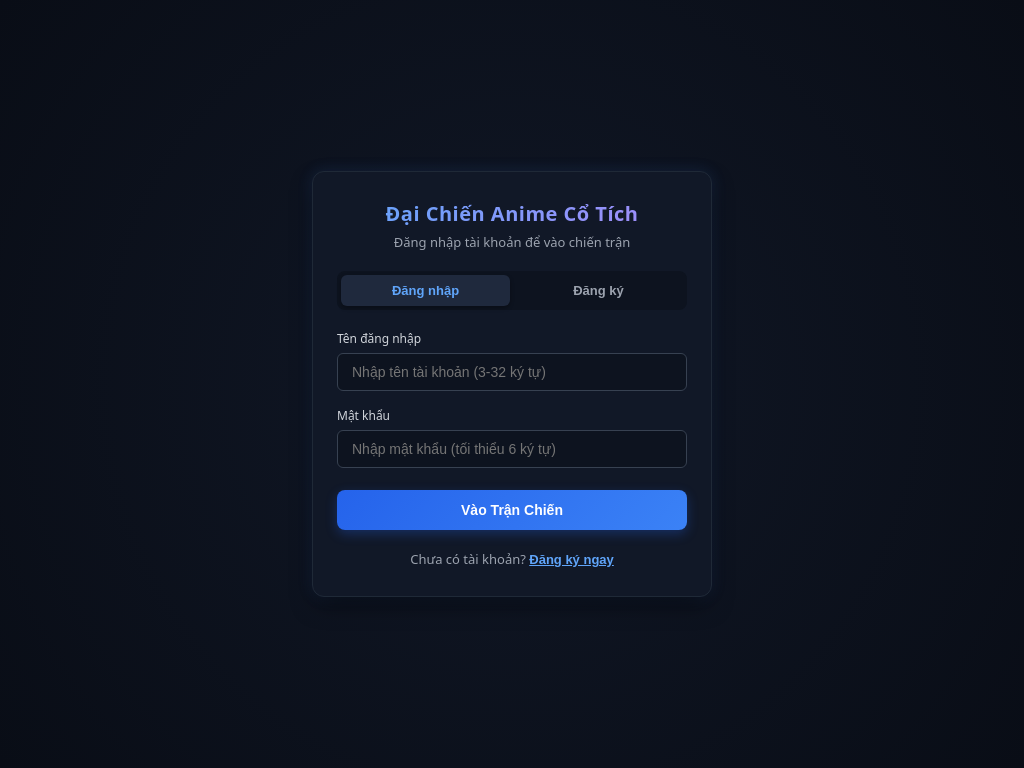
Scenario: App runtime lifecycle and Web Account authentication orchestration › interactive login and registration flow › shows error banner when credentials are rejected and never connects SignalR
Step 1. Type "wronguser" into the field with test id "input-username" → (512, 372), box [337,353,687,391]
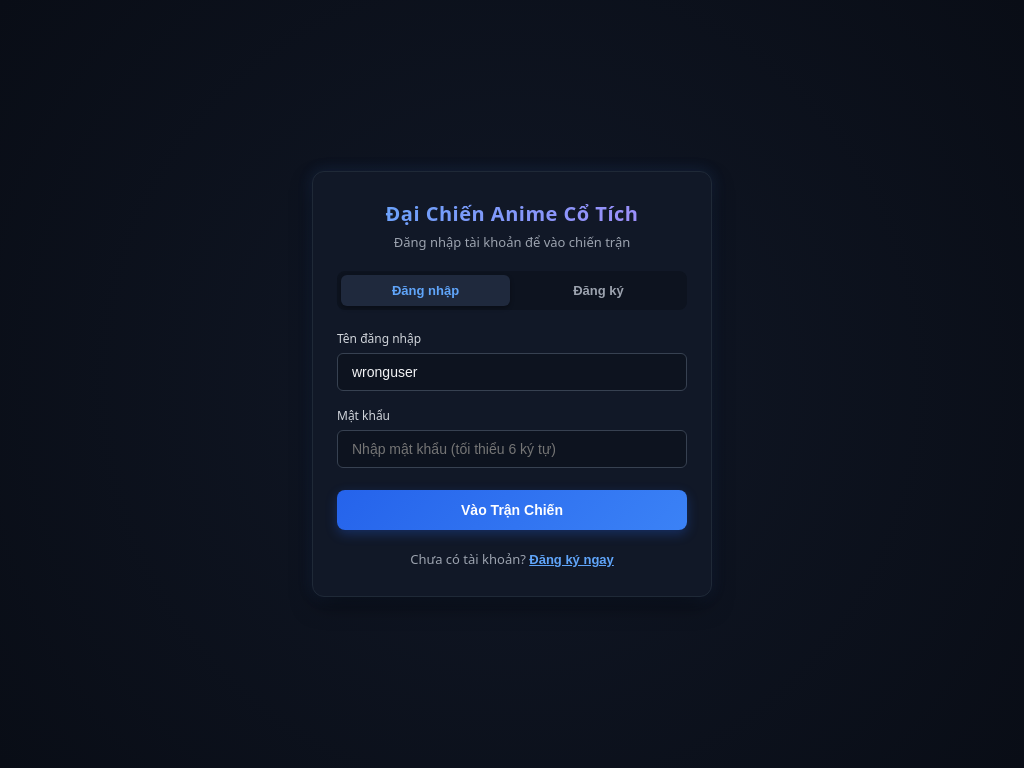
Step 2. Type "wrongpass" into the password field with test id "input-password" → (512, 449), box [337,430,687,468]
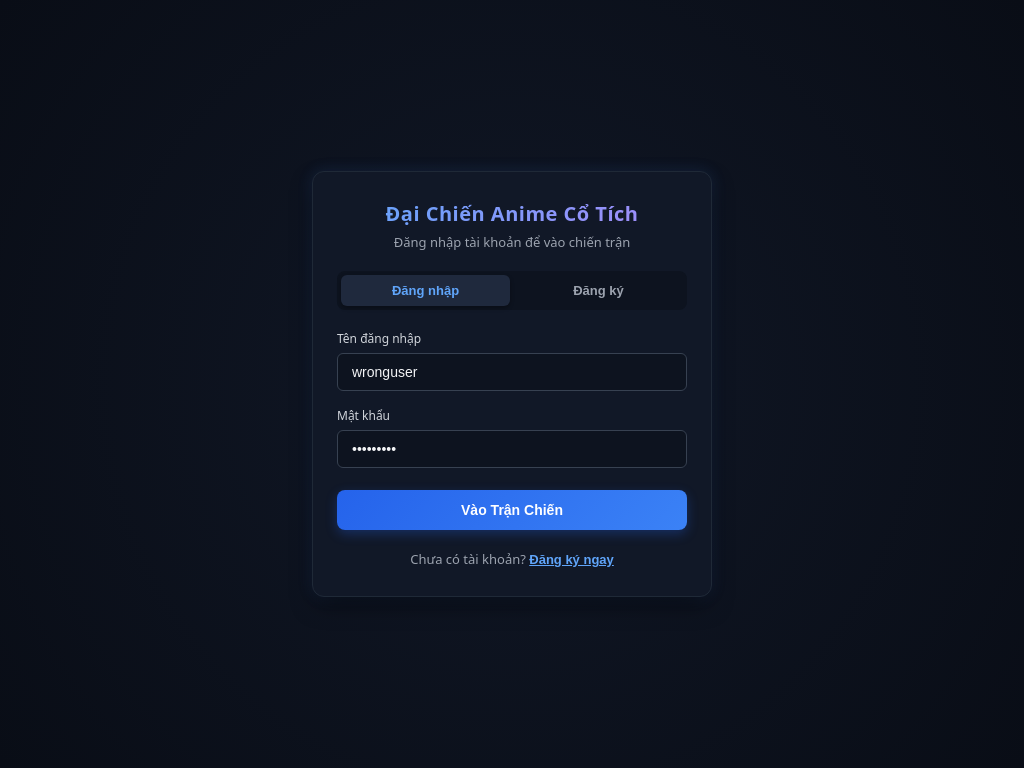
Step 3. Click the button with test id "button-submit" → (512, 510), box [337,490,687,530]
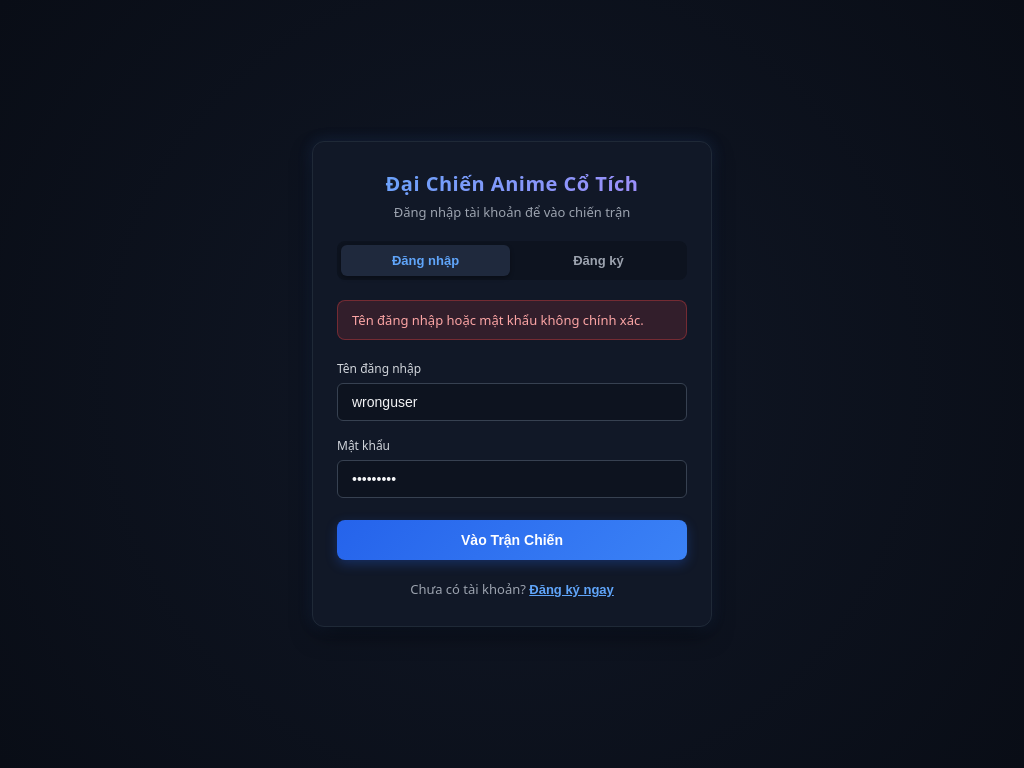
Expected: the message "Tên đăng nhập hoặc mật khẩu không chính xác." is shown, [337,300,687,340]
